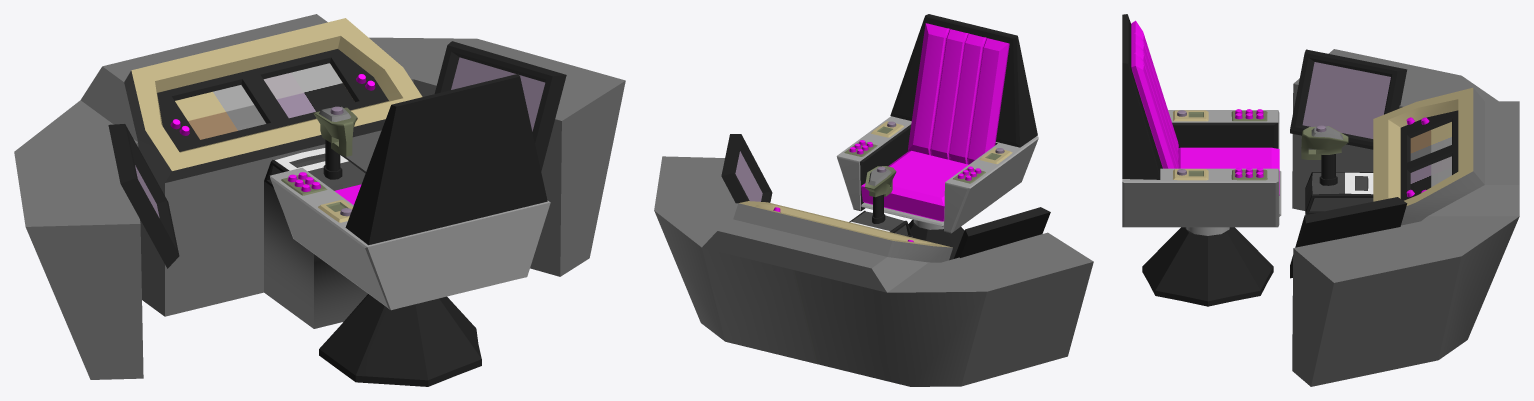
File: CockpitSet.fbx
3 renders of one model, left to right at view 1: azimuth 30°, elevation 25°; view 2: azimuth 150°, elevation 25°; view 3: azimuth 270°, elevation 25°, orthographic. The views are drawn at different scales.
Visible parts, largest first — view 1: polySurface87, polySurface63, polySurface56, polySurface91, polySurface92, polySurface89, polySurface88, polySurface94, polySurface93; view 2: polySurface87, polySurface63, polySurface92, polySurface91, polySurface56, polySurface94, polySurface60; view 3: polySurface87, polySurface63, polySurface92, polySurface91, polySurface56, polySurface94, polySurface89, polySurface88, polySurface93, polySurface67, polySurface65, polySurface71.
Boxes of the visible parts, box(x1,y1,x2,y2) form: polySurface87: box(14, 14, 625, 379); polySurface63: box(270, 73, 550, 386); polySurface56: box(264, 148, 367, 328); polySurface91: box(434, 41, 566, 171); polySurface92: box(108, 124, 179, 268); polySurface89: box(175, 85, 266, 139); polySurface88: box(263, 63, 354, 118); polySurface94: box(313, 106, 357, 156); polySurface93: box(323, 139, 342, 179); polySurface87: box(654, 156, 1093, 386); polySurface63: box(836, 14, 1038, 260); polySurface92: box(954, 207, 1050, 258); polySurface91: box(721, 134, 772, 203); polySurface56: box(849, 210, 912, 237); polySurface94: box(865, 166, 896, 197); polySurface60: box(861, 202, 943, 226); polySurface87: box(1292, 49, 1519, 386); polySurface63: box(1122, 14, 1279, 306); polySurface92: box(1290, 49, 1407, 149); polySurface91: box(1290, 197, 1407, 278); polySurface56: box(1305, 172, 1373, 214); polySurface94: box(1301, 126, 1348, 159); polySurface89: box(1410, 122, 1451, 160); polySurface88: box(1410, 156, 1451, 193); polySurface93: box(1319, 154, 1337, 185); polySurface67: box(1231, 168, 1267, 180); polySurface65: box(1173, 110, 1208, 121); polySurface71: box(1173, 169, 1208, 180).
Size of the model in its own units: 9.13 by 4.57 by 6.56.
